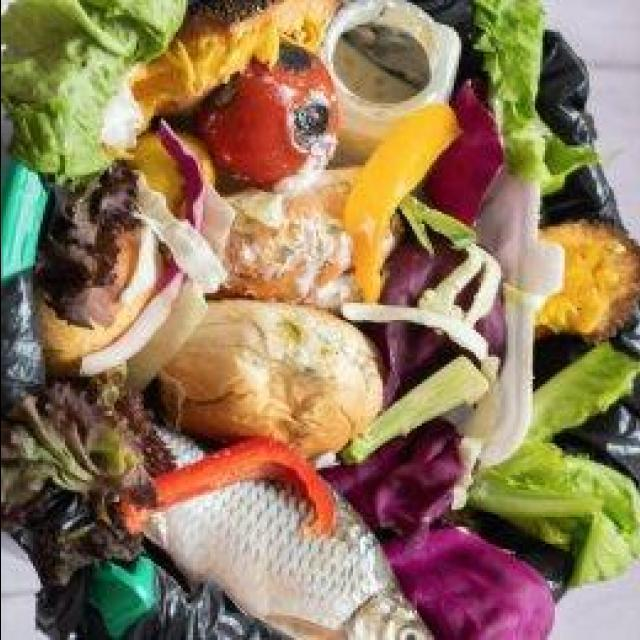Garbage: (0, 3, 636, 640)
Plastic_bottle: (322, 0, 460, 164)
